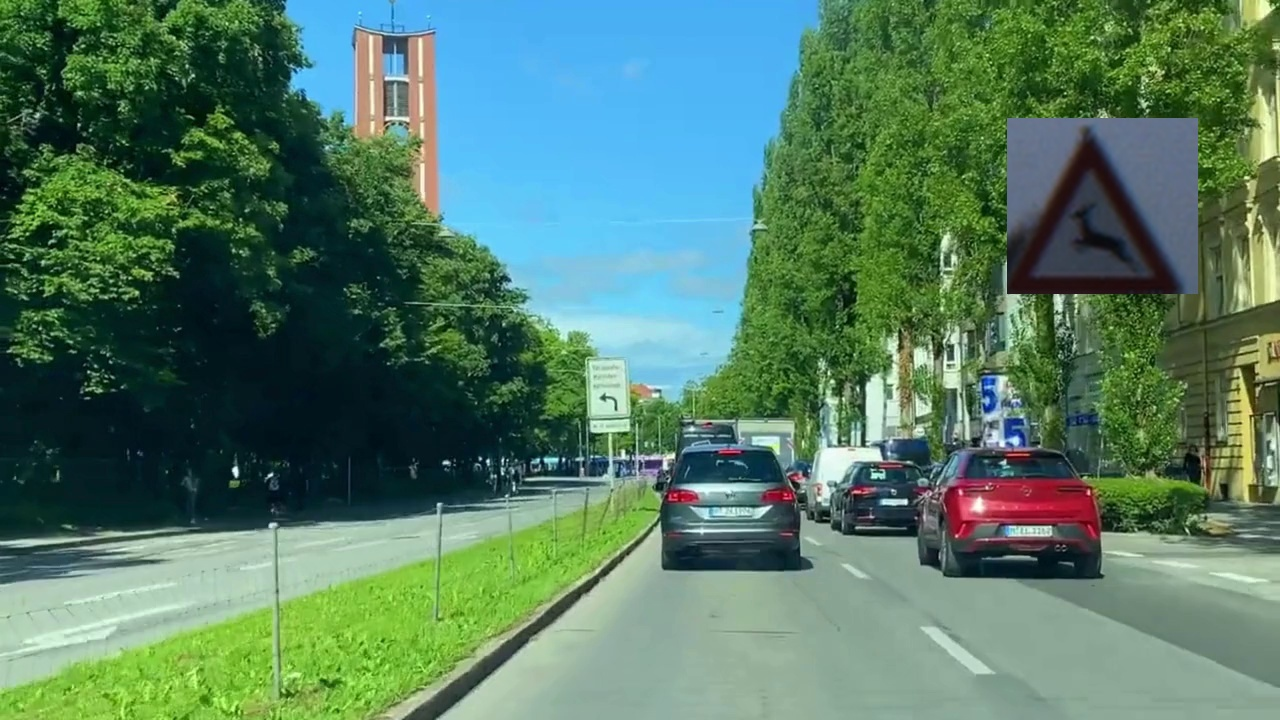Wild animals: (1007, 118, 1198, 294)
